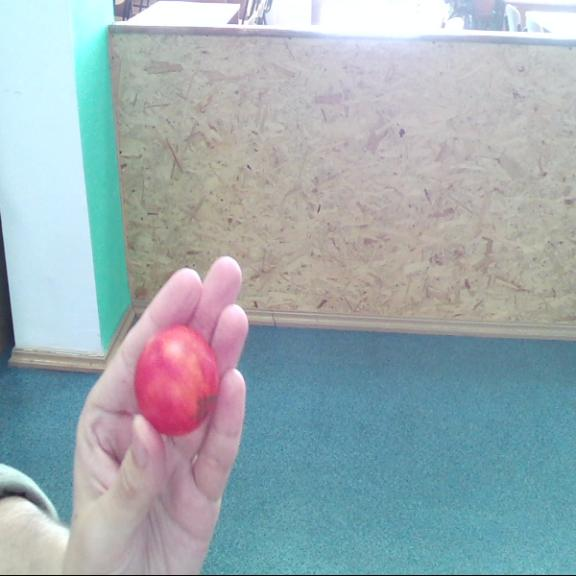ball: (134, 326, 221, 434)
